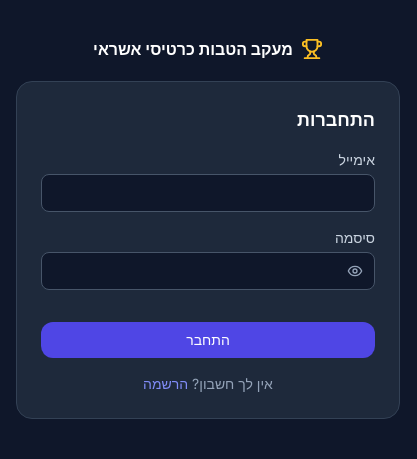
it: cache isolation › shows a generic message on a 401 login and keeps the form usable
expect the heading "התחברות" is shown: met, box top-left (297, 109), bottom-right (375, 130)
In the field labelled "אימייל": {"x": 208, "y": 193} top-left (41, 174), bottom-right (375, 212), type "a@example.com"
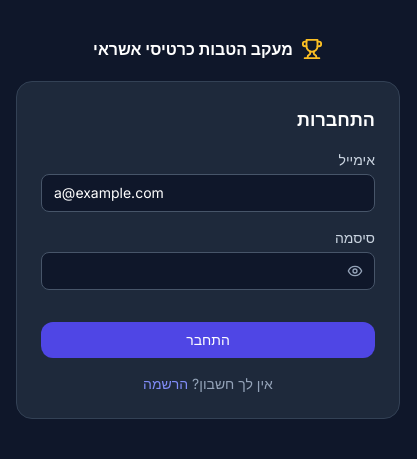
In the password field labelled "סיסמה": {"x": 208, "y": 271} top-left (41, 252), bottom-right (375, 290), type "whatever-pass"
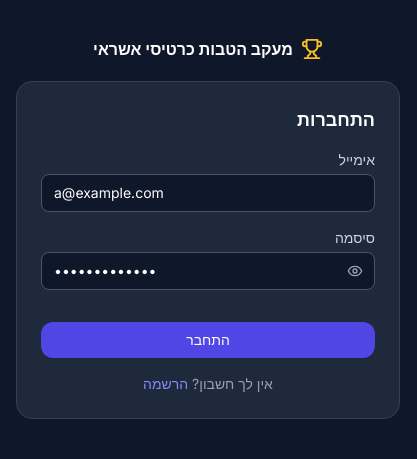
Click the button "התחבר": {"x": 208, "y": 340} top-left (41, 322), bottom-right (375, 358)
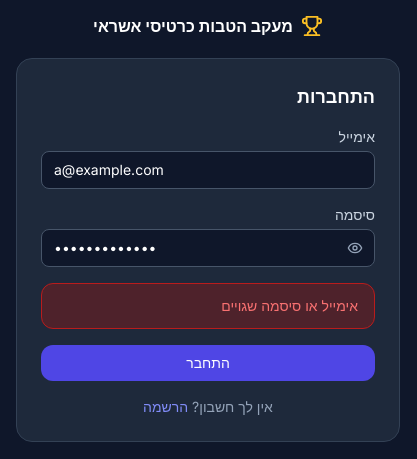
expect the text "אימייל או סיסמה שגויים" is shown: met, box top-left (41, 283), bottom-right (375, 329)
